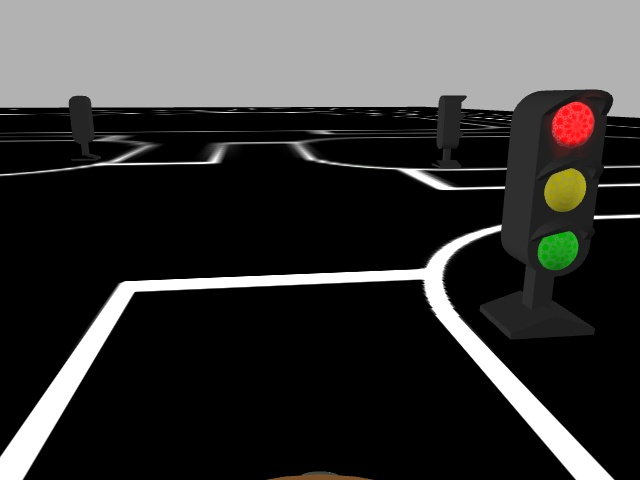red_light: (519, 90, 614, 279)
